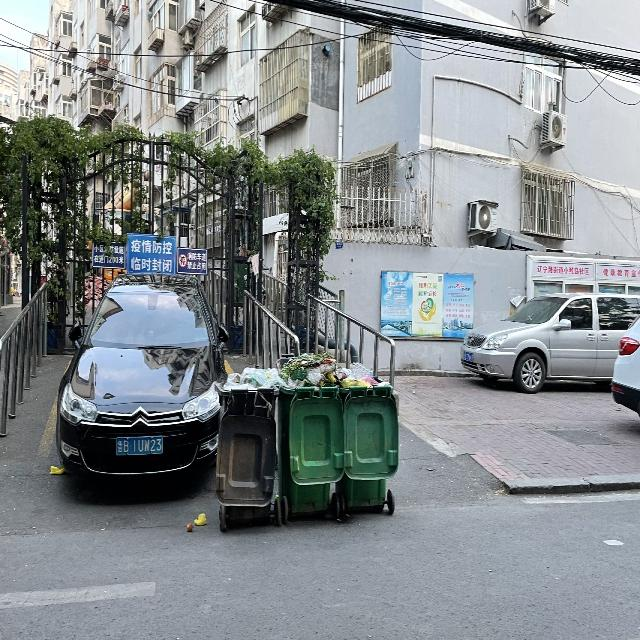overflow: (276, 352, 344, 514), (212, 366, 277, 520), (337, 361, 398, 506)
